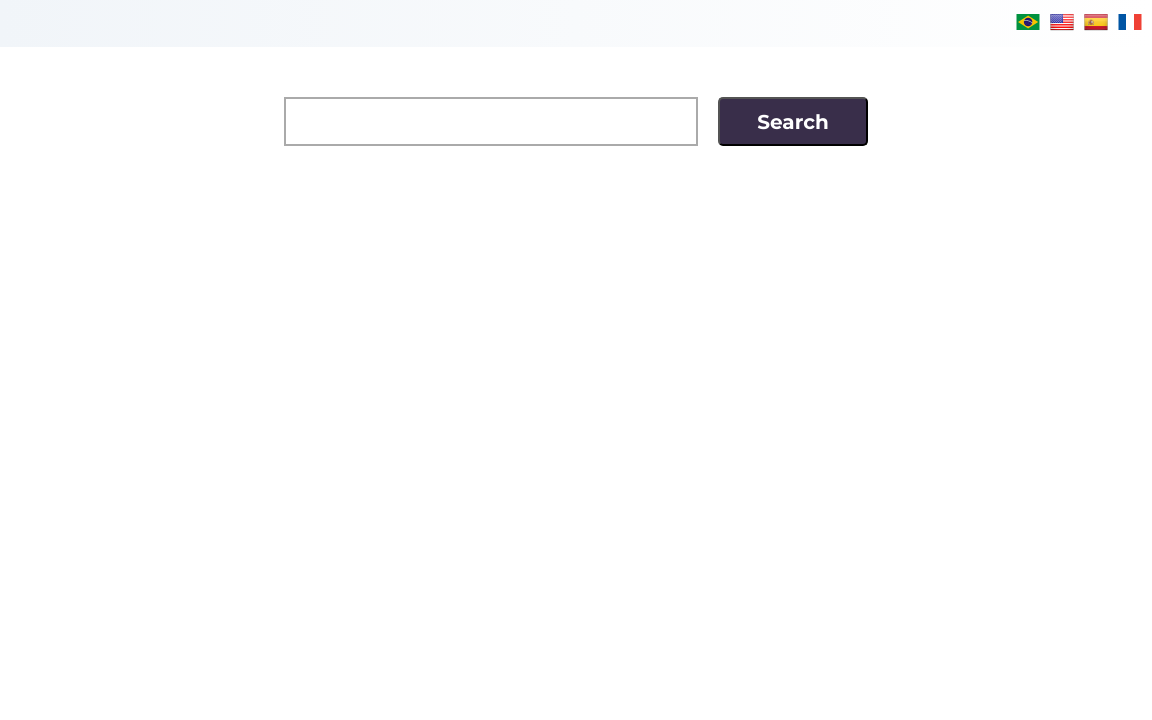
e2e tests over home page › should render correct number of word cards when search is performed
The width and height of the screenshot is (1152, 720).
Type "a" into the field with test id "search-input" at (491,122), box [284,97,698,146]
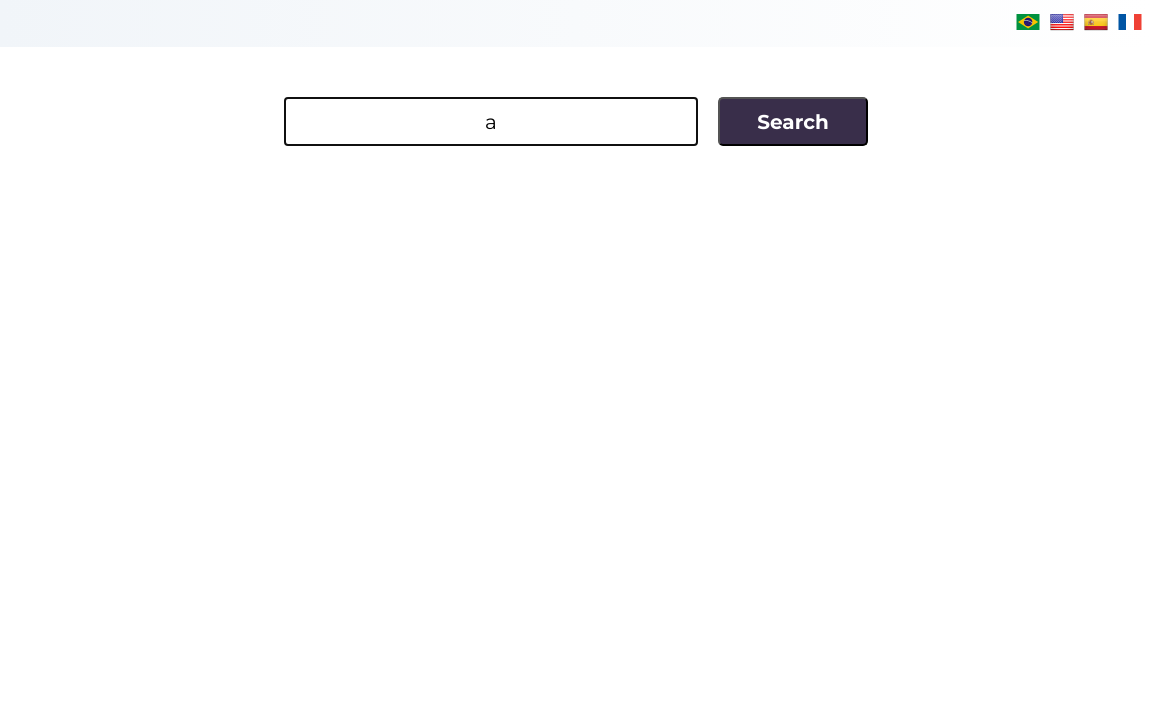
Click the button with test id "search-button" at (793,122), box [718,97,868,146]
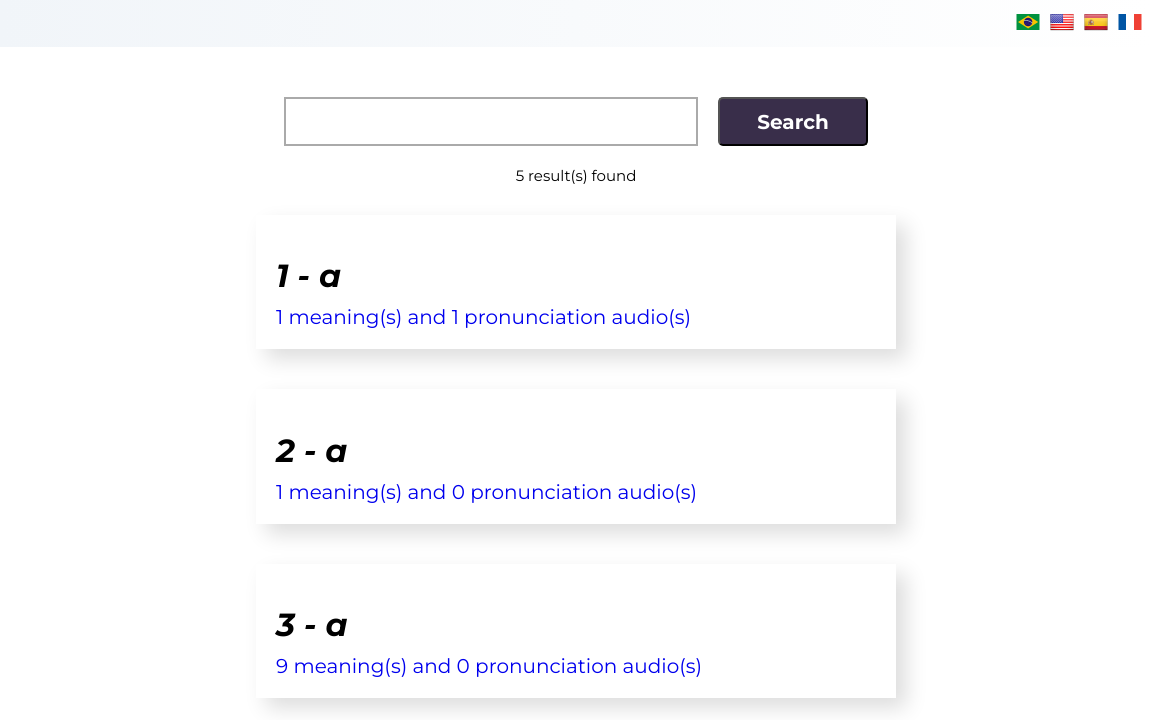
Result: the number of elements with test id "word-card" is 5
